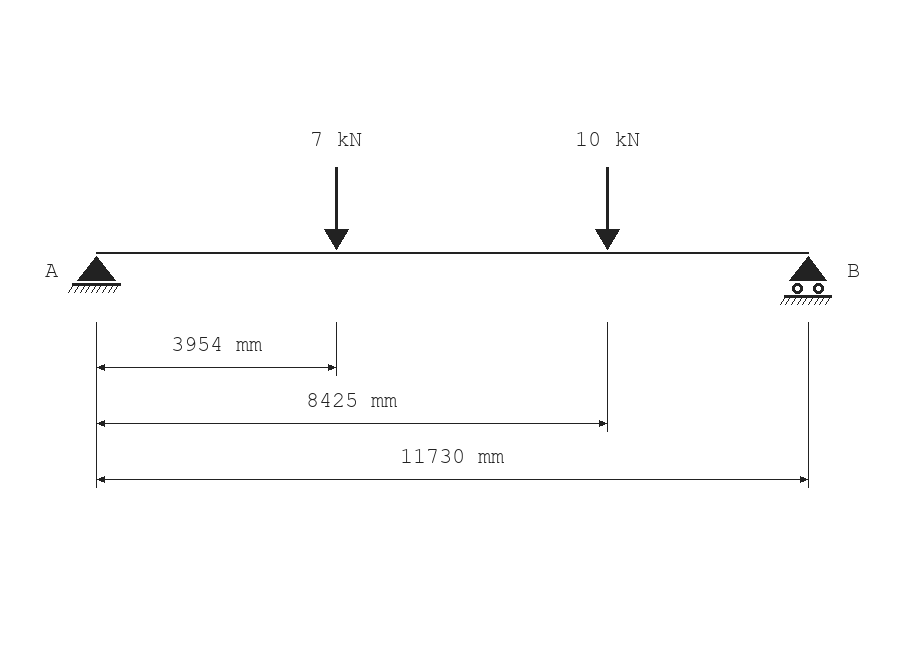pin_support: (68, 256, 121, 293)
point_load: (324, 167, 349, 250), (595, 167, 620, 250)
roller_support: (780, 256, 832, 305)
